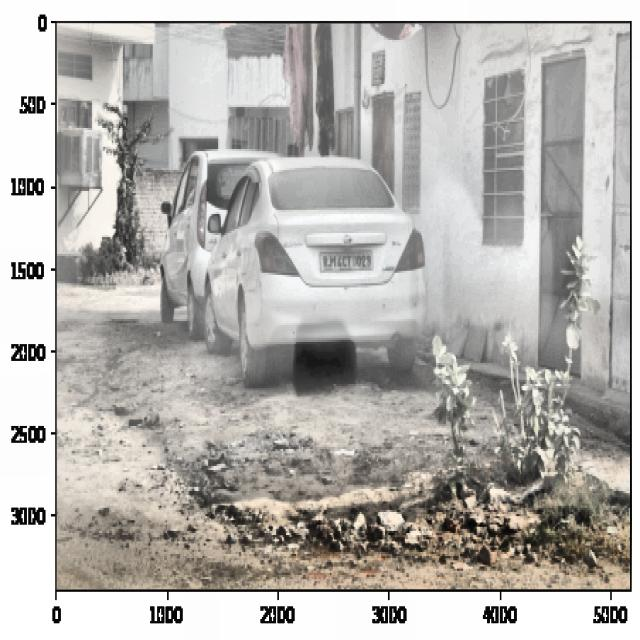license_plate: (321, 251, 374, 274)
